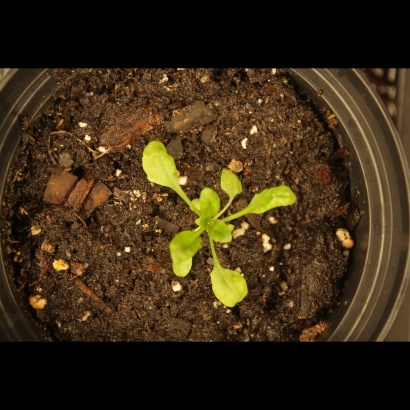leaf: (139, 132, 186, 200), (203, 262, 258, 315), (246, 181, 304, 221), (166, 228, 205, 282), (193, 185, 225, 226), (217, 161, 248, 198), (206, 220, 239, 247)
